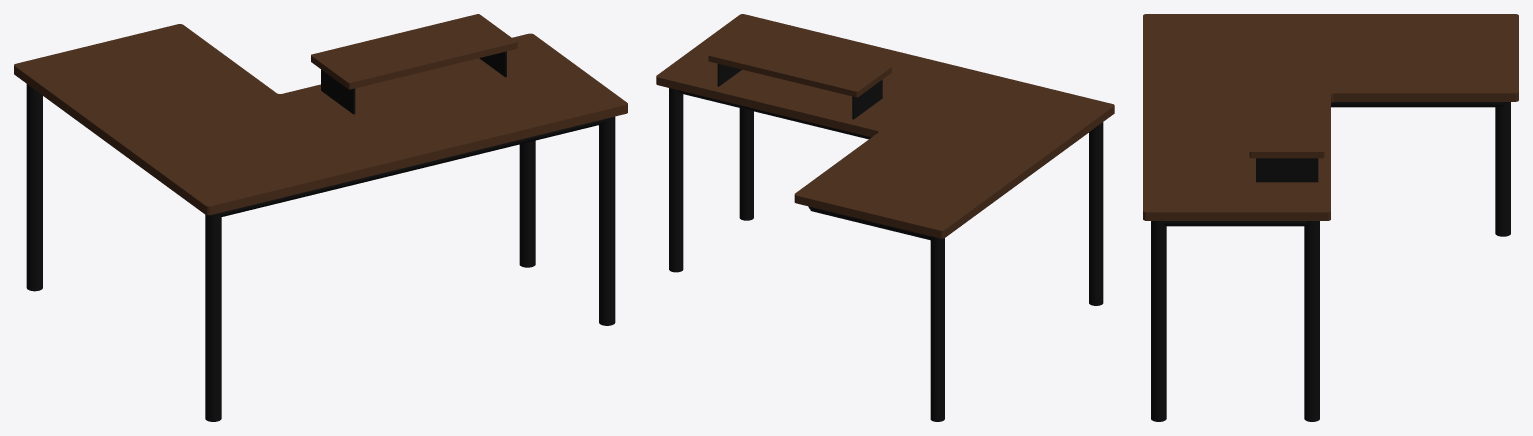
The model's file is computer-desk.glb.
The picture shows the model from 3 angles, left to right: view 1: azimuth 30°, elevation 25°; view 2: azimuth 150°, elevation 25°; view 3: azimuth 270°, elevation 25°; orthographic projection. The views are drawn at different scales.
Parts seen in each view (by area): view 1: desk_laminate_top_obj, desk_steel_frame_obj, riser_board_obj, riser_uprights_obj; view 2: desk_laminate_top_obj, desk_steel_frame_obj, riser_board_obj, riser_uprights_obj; view 3: desk_laminate_top_obj, desk_steel_frame_obj, riser_board_obj, riser_uprights_obj.
Part boxes in pixels (x1,y1,x2,y2): desk_laminate_top_obj: (14, 24, 627, 215); desk_steel_frame_obj: (26, 84, 615, 421); riser_board_obj: (311, 14, 517, 89); riser_uprights_obj: (321, 51, 506, 114); desk_laminate_top_obj: (656, 14, 1114, 238); desk_steel_frame_obj: (669, 88, 1103, 421); riser_board_obj: (708, 30, 891, 97); riser_uprights_obj: (717, 63, 882, 119); desk_laminate_top_obj: (1143, 14, 1518, 220); desk_steel_frame_obj: (1151, 102, 1510, 421); riser_board_obj: (1249, 72, 1324, 158); riser_uprights_obj: (1256, 158, 1318, 182).
Bounding box in the file's own units: 1.5 × 0.87 × 1.2.
